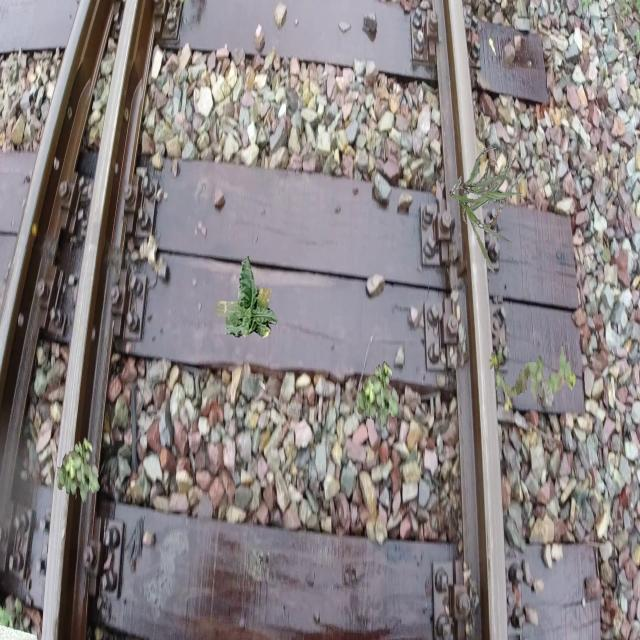Plant: (450, 148, 523, 272), (490, 344, 576, 412), (214, 256, 278, 339), (56, 437, 100, 504), (356, 361, 399, 428)
